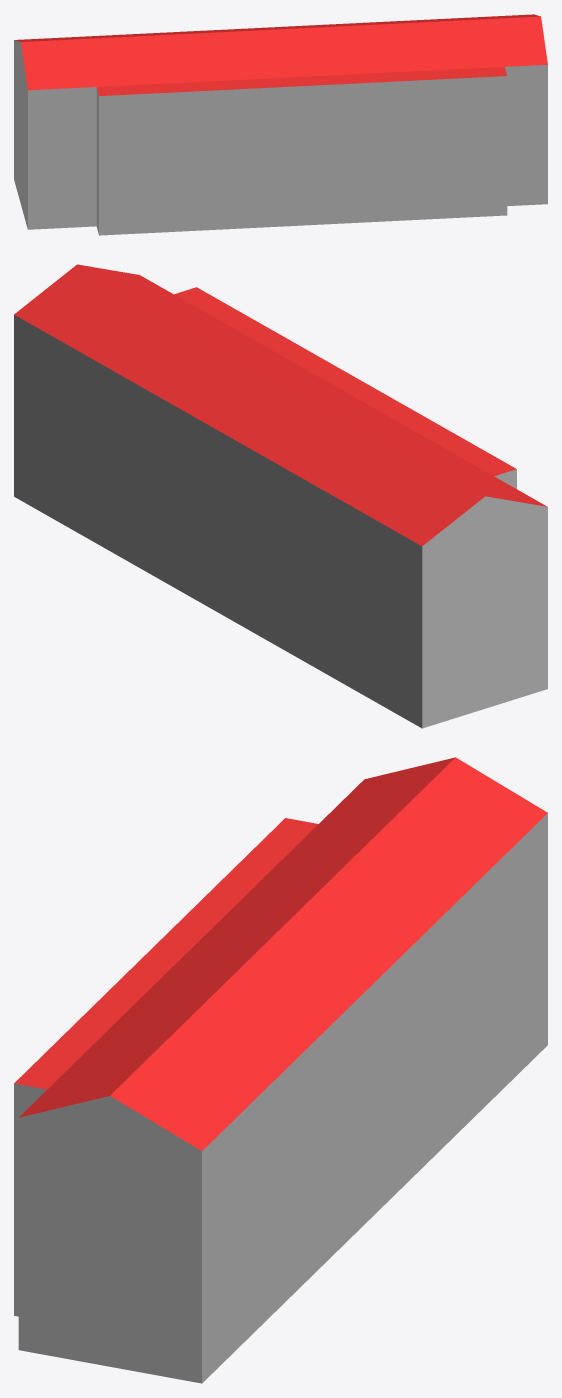
Rendered from pb-96359a12-7f36-11f0-aa94-9c7bef4dcf4c.dae.
3 renders of one model, top to bottom at view 1: azimuth 30°, elevation 25°; view 2: azimuth 150°, elevation 25°; view 3: azimuth 270°, elevation 25°, orthographic. The views are drawn at different scales.
Size of the model in its own units: 48.42 by 29.38 by 16.45.
